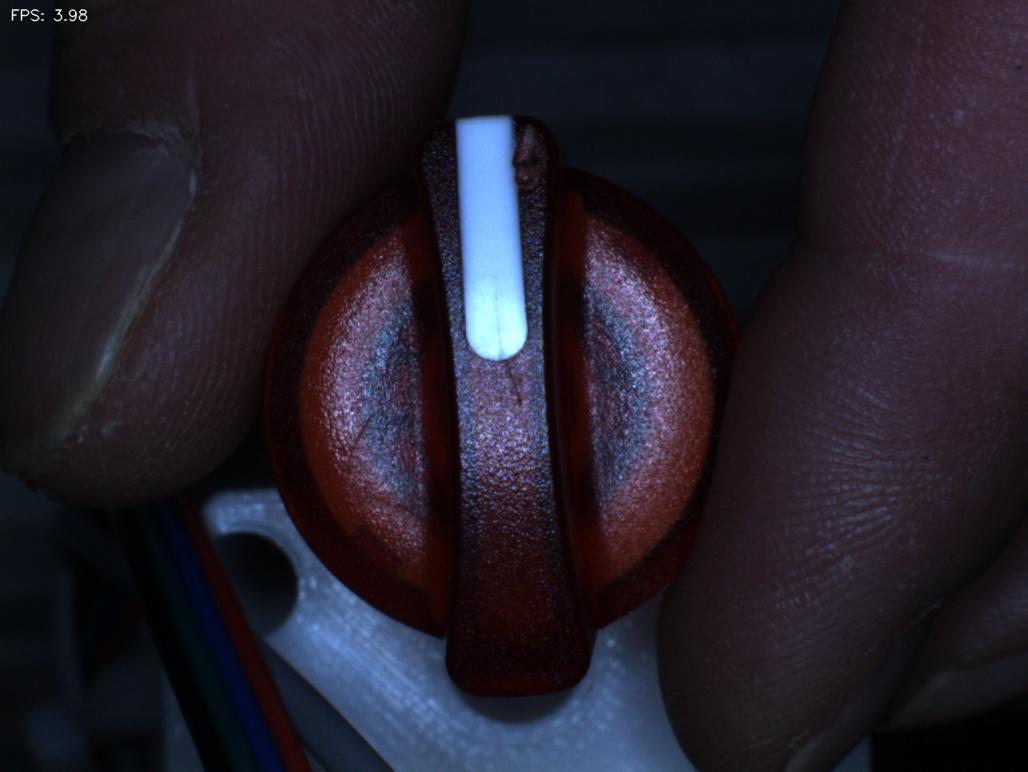Choc: (474, 97, 582, 213)
